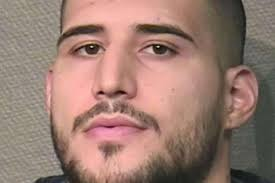middle_eastern_male: (50, 4, 252, 179)
